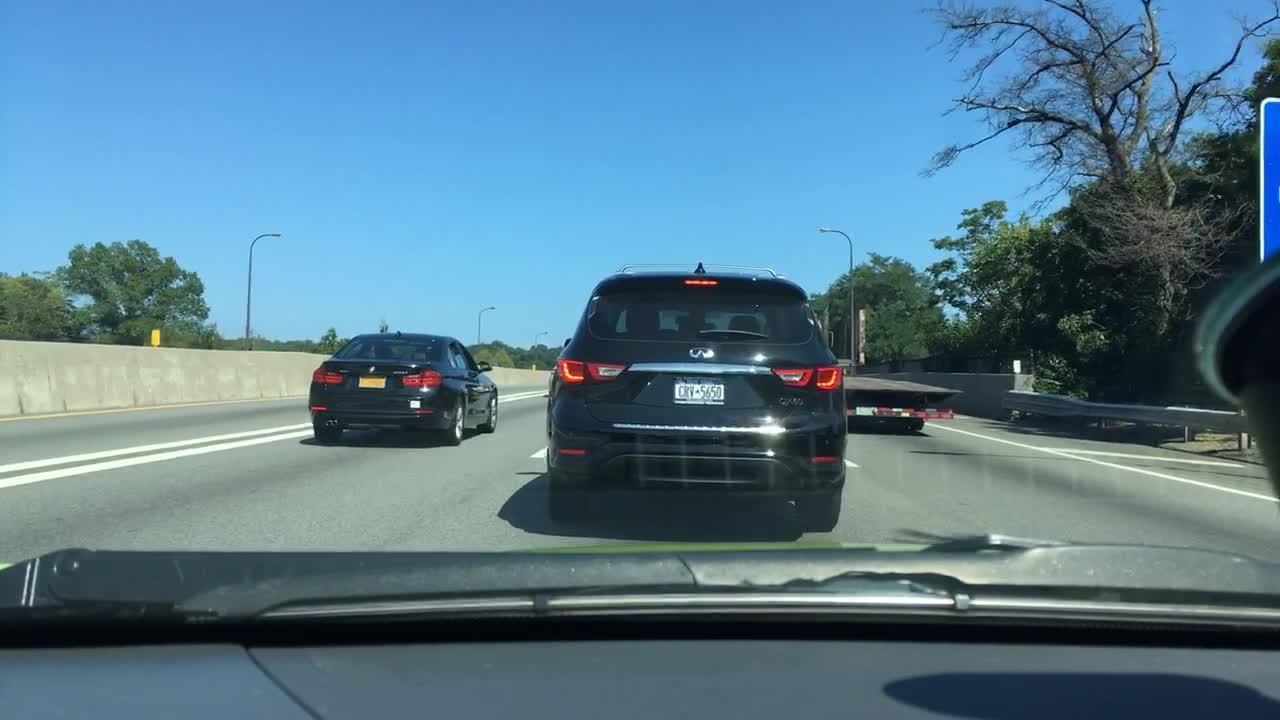Infiniti: (685, 343, 717, 362)
